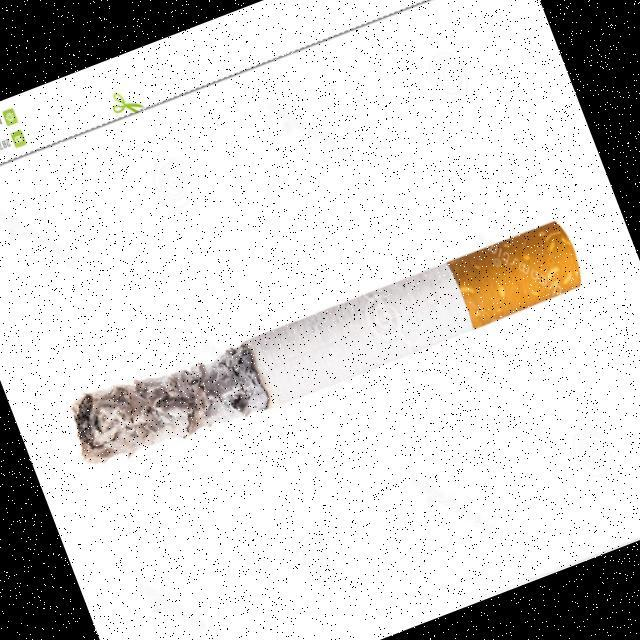cigarette: (54, 199, 596, 488)
